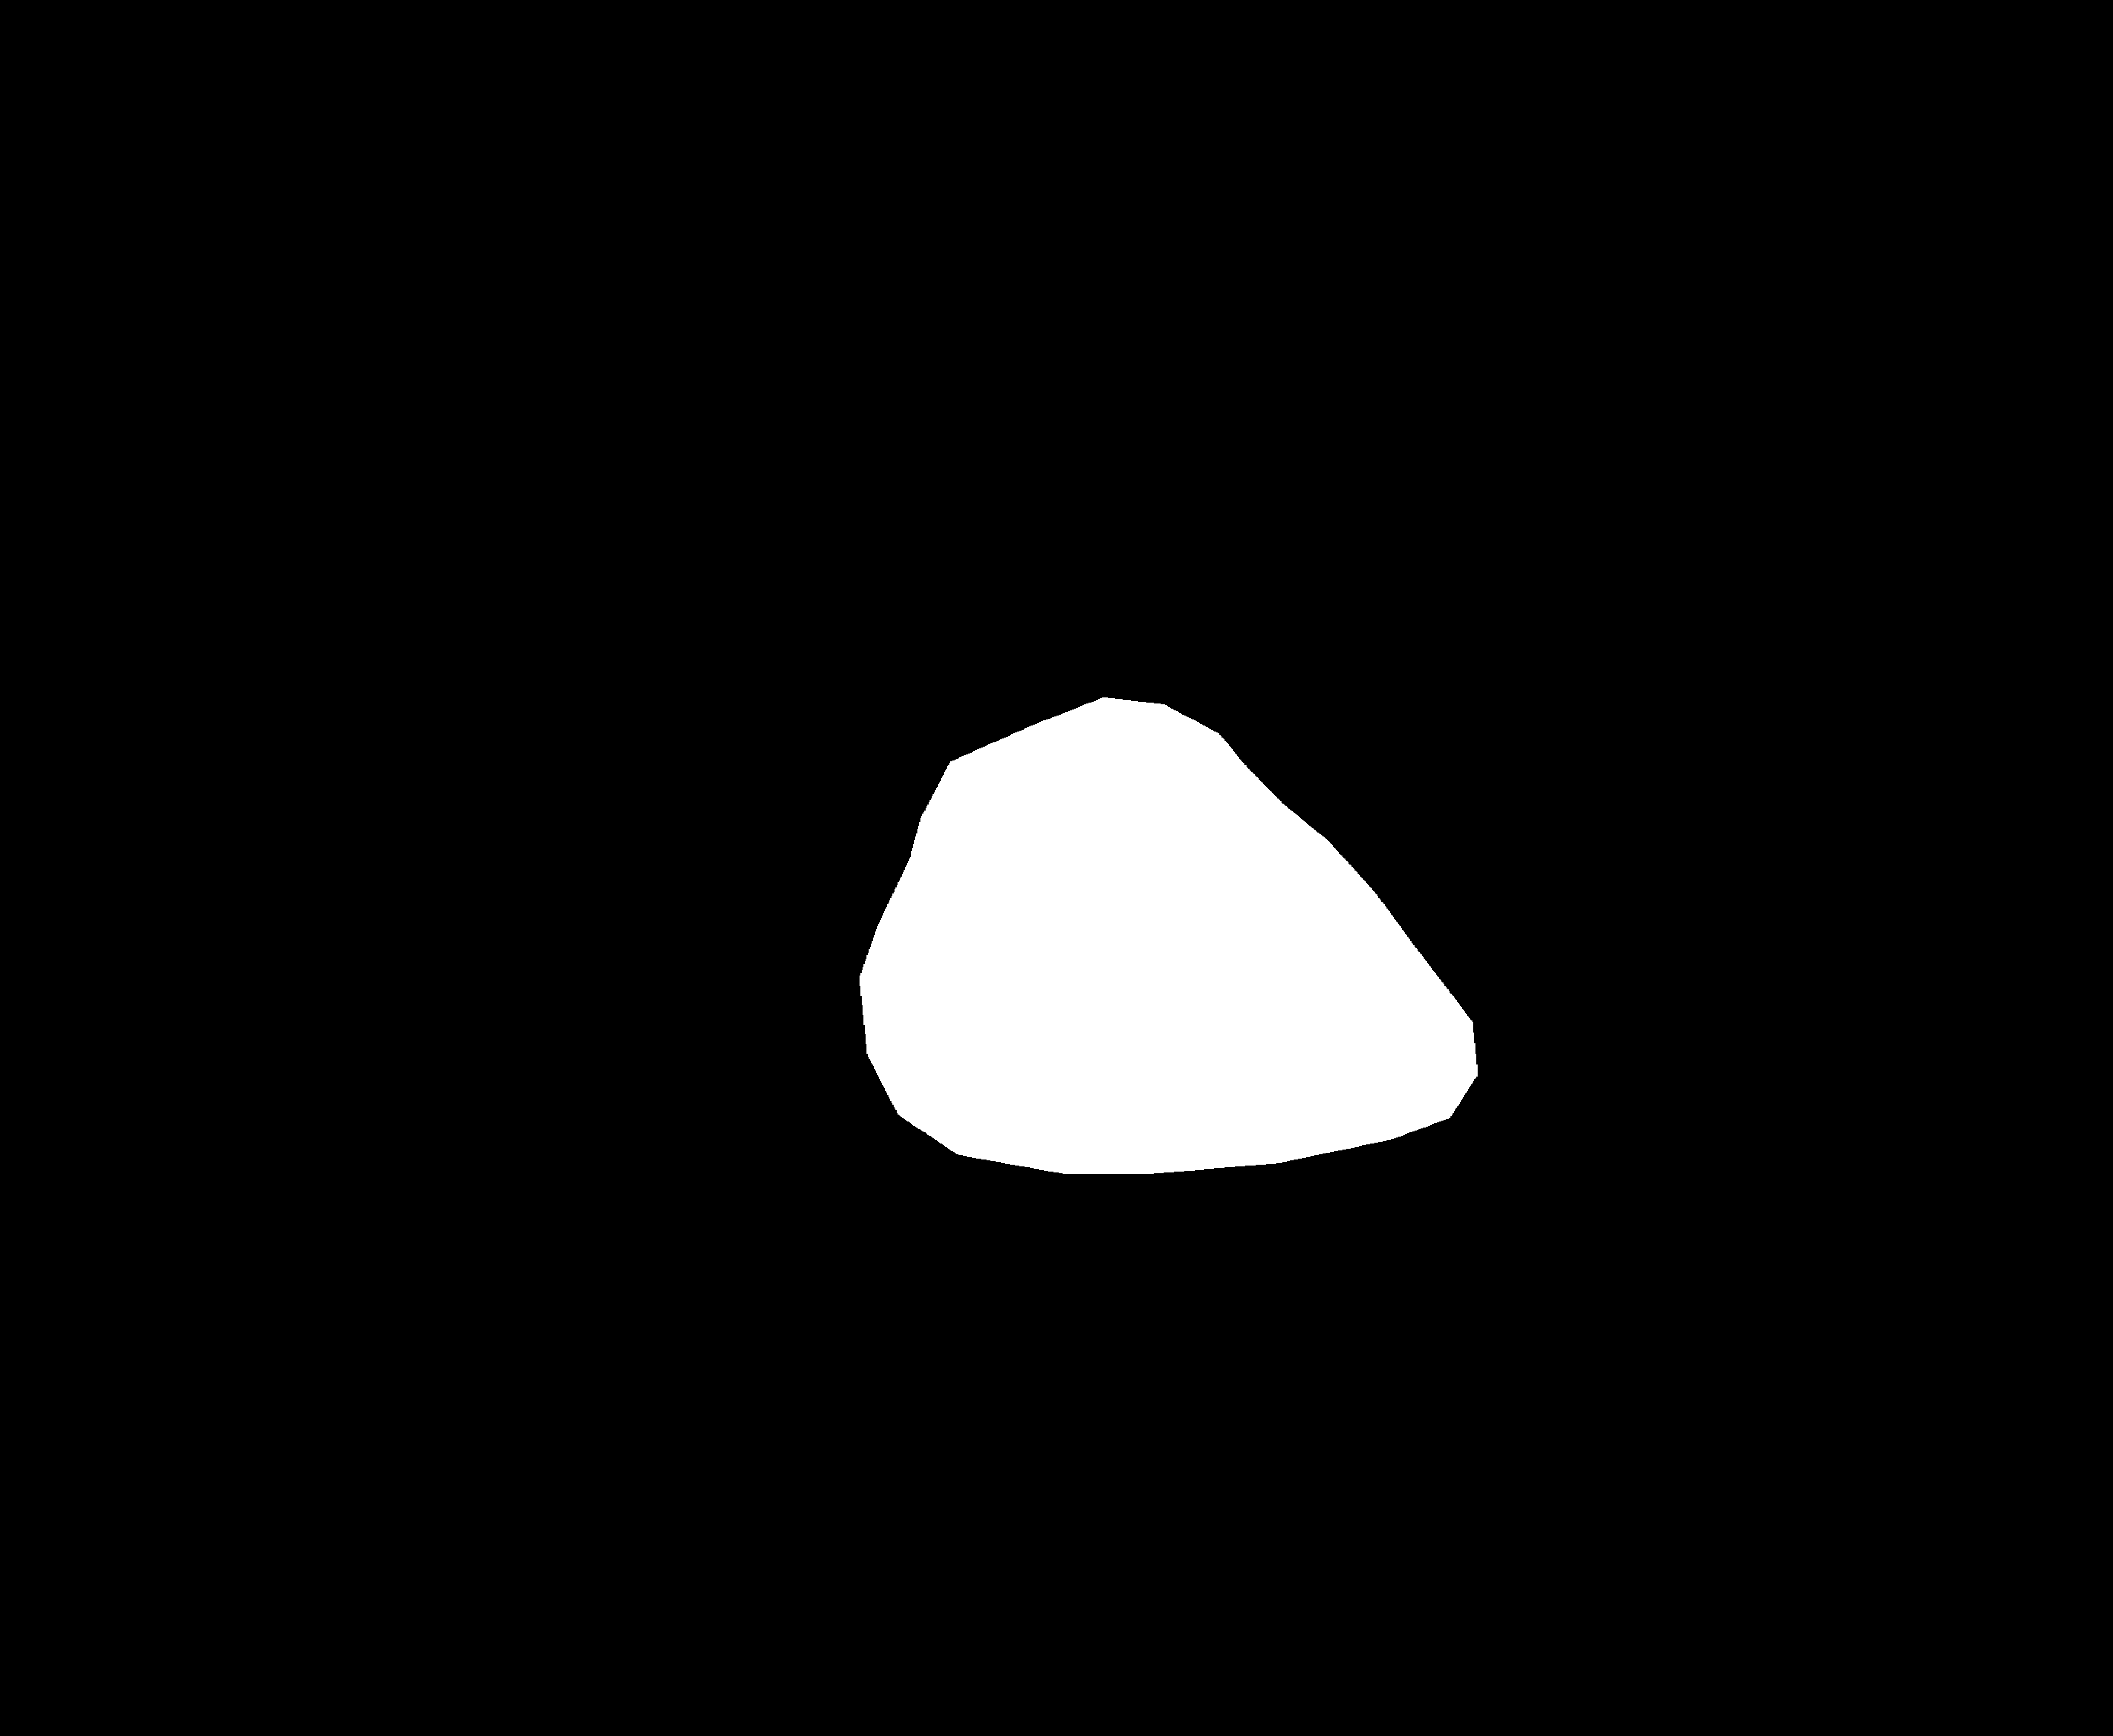heart: (860, 783, 1565, 1267)
left_lung: (337, 128, 969, 1141)
right_lung: (1078, 118, 1755, 1262)
